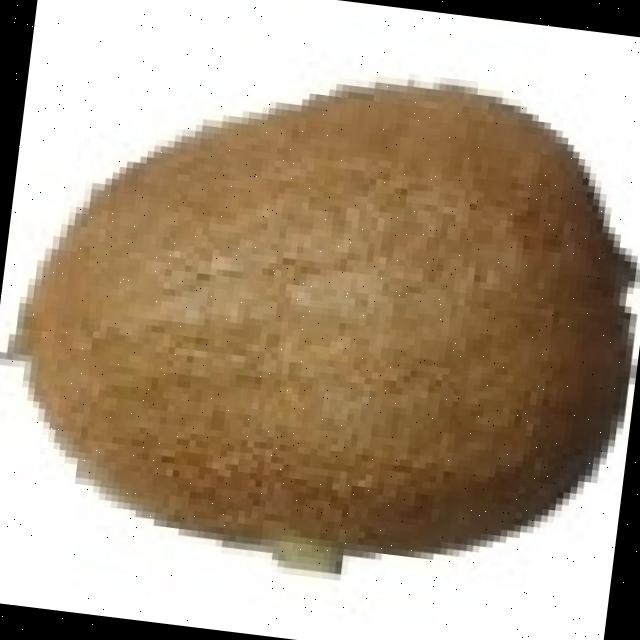kiwi: (15, 78, 625, 553)
